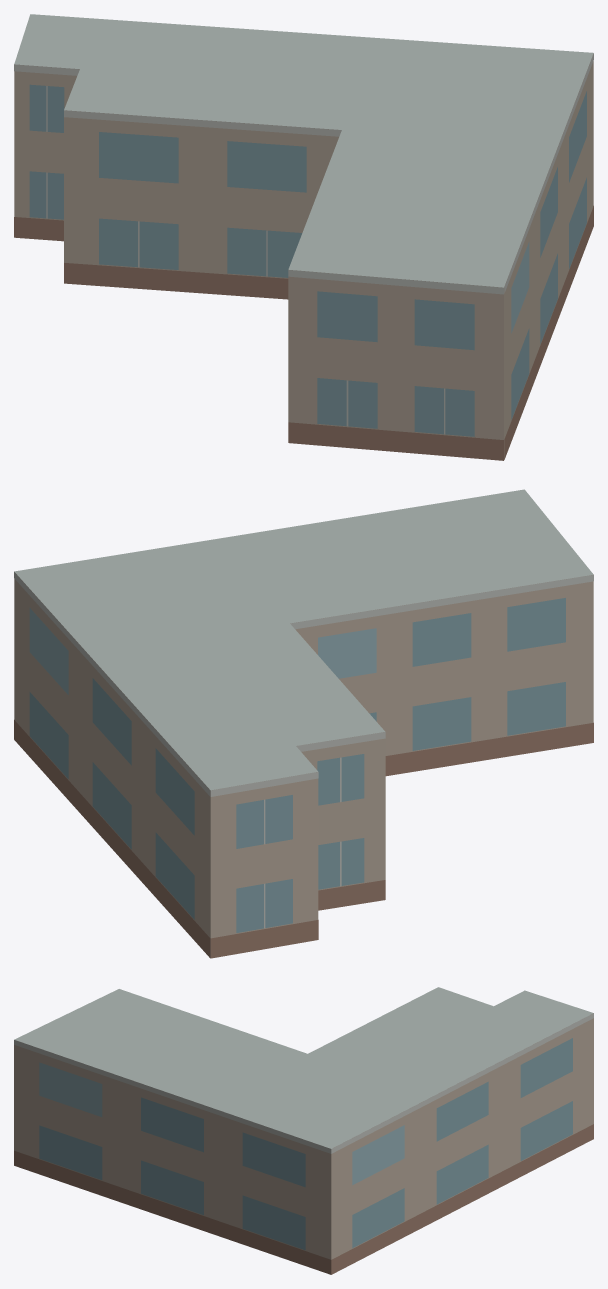
The model's file is survey-upis-32981946.glb.
3 renders of one model, top to bottom at view 1: azimuth 30°, elevation 25°; view 2: azimuth 150°, elevation 25°; view 3: azimuth 270°, elevation 25°, orthographic. The views are drawn at different scales.
Visible parts, largest first — view 1: survey-upis-32981946.tmp; view 2: survey-upis-32981946.tmp; view 3: survey-upis-32981946.tmp.
Part boxes in pixels (<box>): survey-upis-32981946.tmp: <box>14,14,593,460</box>; survey-upis-32981946.tmp: <box>14,489,593,958</box>; survey-upis-32981946.tmp: <box>14,987,593,1274</box>.
Bounding box in the file's own units: 16.82 × 6.1 × 25.45.
